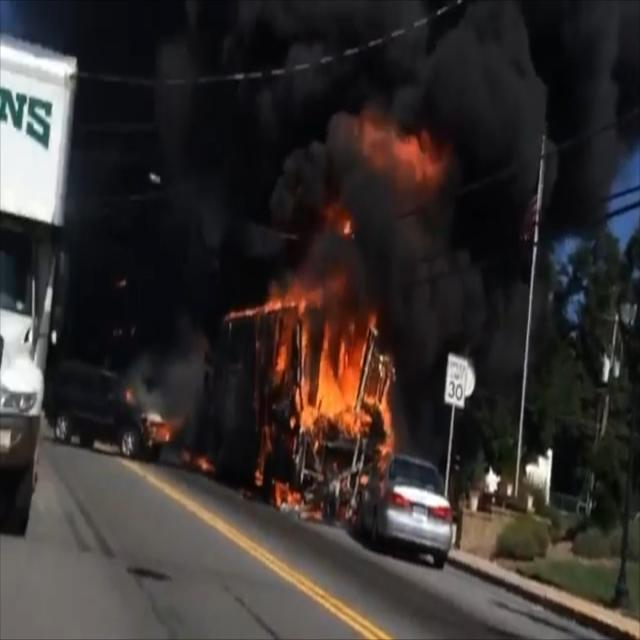fire: (222, 251, 404, 522)
